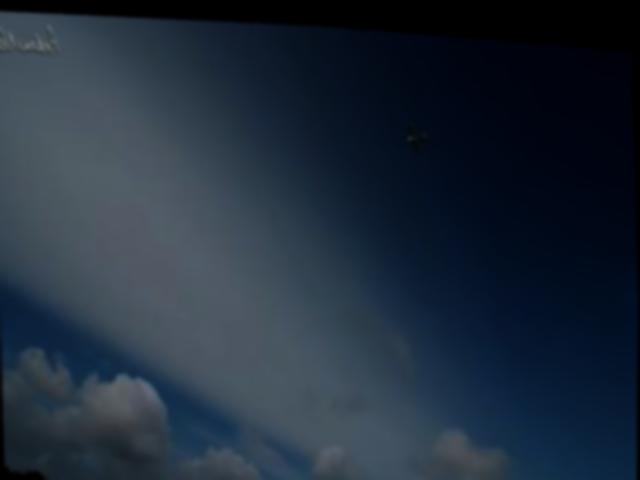uav: (400, 108, 435, 153)
